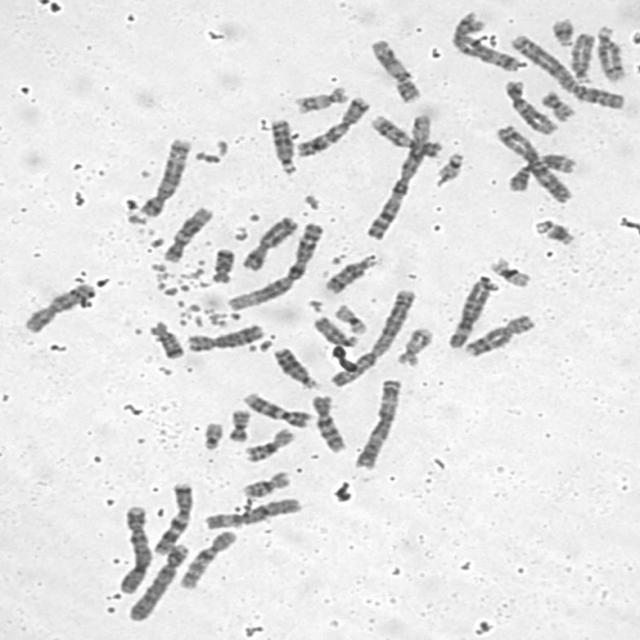A1: (361, 110, 435, 243), (223, 219, 326, 312)
A2: (508, 31, 628, 111), (327, 286, 419, 388)
A3: (494, 122, 574, 204), (351, 376, 404, 470)
B4: (124, 541, 192, 622), (115, 503, 152, 594)
B5: (130, 134, 193, 222), (447, 12, 521, 72)
C10: (178, 528, 237, 590), (307, 392, 348, 454)
C11: (368, 36, 424, 105), (507, 151, 578, 194)
C12: (160, 203, 214, 264), (502, 78, 557, 135)
C6: (202, 494, 304, 530), (444, 279, 494, 350)
C7: (292, 94, 371, 158), (150, 479, 196, 557)
C8: (460, 312, 537, 358), (183, 322, 266, 354)
C9: (369, 114, 445, 160), (239, 389, 313, 431)
D13: (270, 344, 318, 390), (268, 115, 298, 176)
D14: (321, 252, 379, 295), (593, 24, 626, 82)
D15: (311, 314, 360, 349), (566, 30, 597, 84)
E16: (239, 425, 296, 464), (239, 469, 292, 499)
E17: (292, 84, 349, 115), (394, 324, 434, 367)
E18: (147, 319, 184, 360), (208, 245, 236, 284)
F19: (488, 255, 534, 289), (332, 301, 368, 336)
F20: (538, 88, 576, 121), (225, 407, 253, 444)
G21: (532, 217, 578, 248), (549, 16, 576, 46)
G22: (433, 150, 466, 184), (200, 419, 226, 451)
X: (20, 280, 97, 334), (238, 213, 300, 272)
